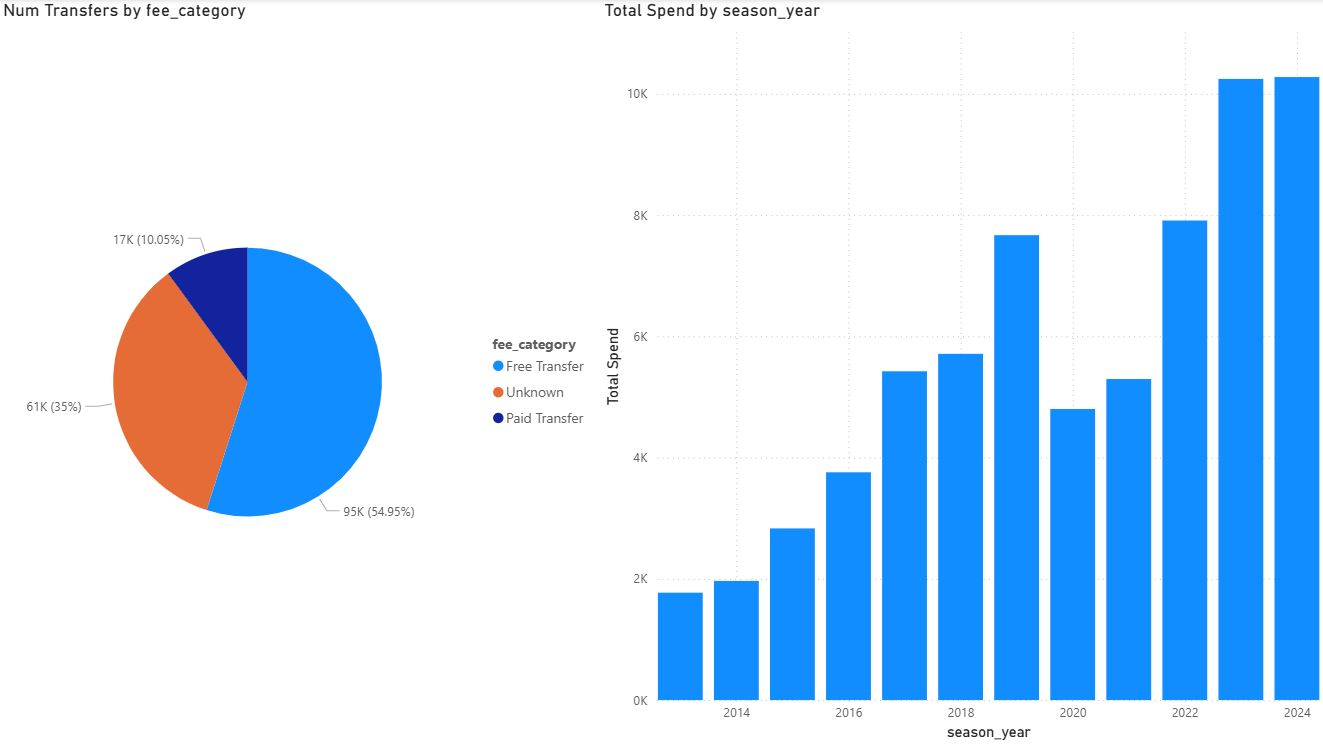

The page's visual inventory and layout, read from the dashboard file:
{"tool":"powerbi","page":{"name":"Page 2","canvas":[1280,720],"ordinal":1},"visuals":[{"type":"pieChart","fields":{"Category":["transfers_cleaned.fee_category"],"Y":["transfers_cleaned.Num Transfers"]},"box":[0,0,580.1,720.7],"z":0},{"type":"clusteredColumnChart","fields":{"Y":["transfers_cleaned.Total Spend"],"Category":["transfers_cleaned.season_year"]},"box":[580.1,0,700.2,720.7],"z":1000}]}

Visuals, with their boxes in screenshot pixels (x1, y1, x2, y2), scaled from the page's 1280x720 canvas onto the 1323x745 screenshot:
pieChart - transfers_cleaned.fee_category x transfers_cleaned.Num Transfers: x1=0, y1=0, x2=600, y2=744
clusteredColumnChart - transfers_cleaned.Total Spend x transfers_cleaned.season_year: x1=600, y1=0, x2=1322, y2=744
